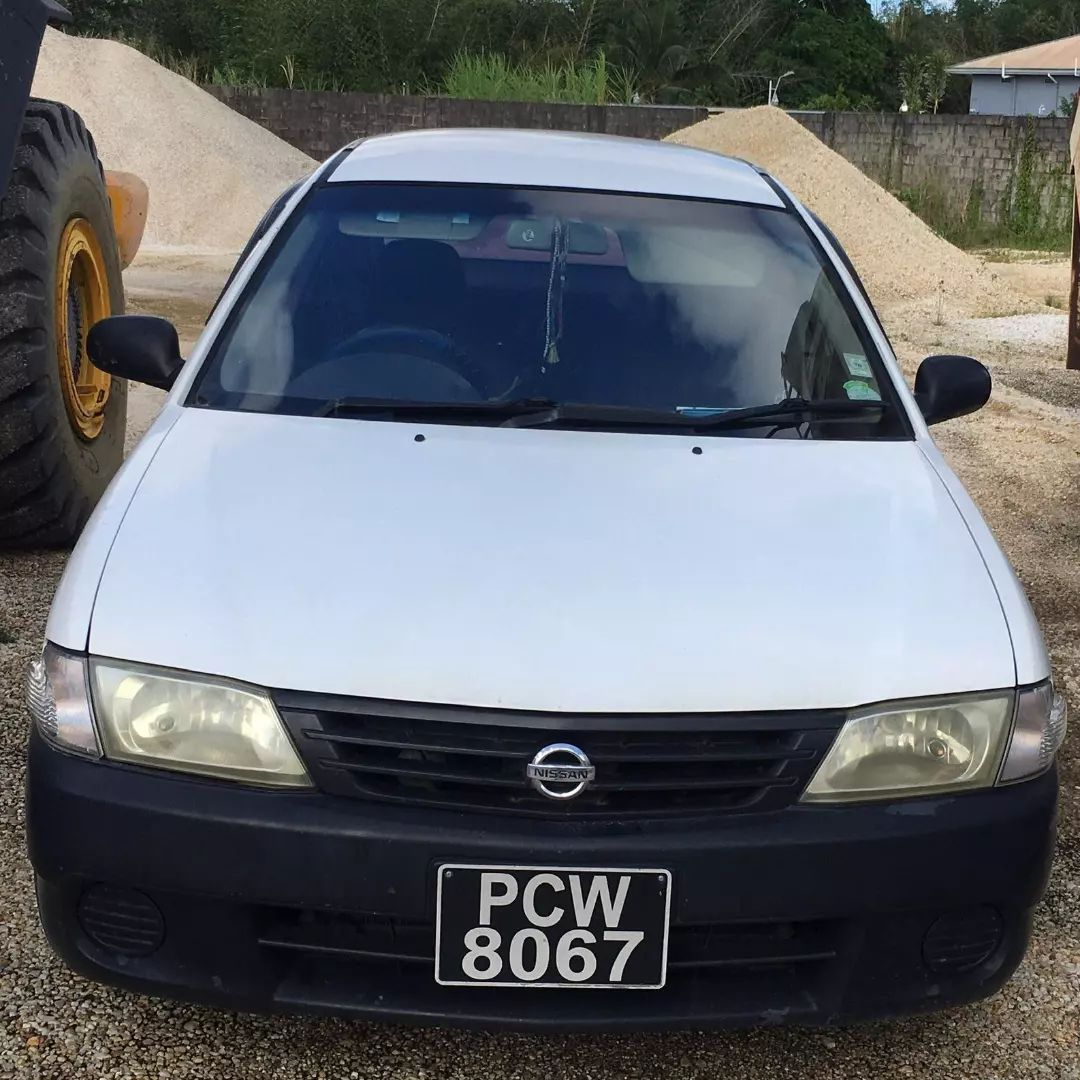License-Plate: (440, 865, 667, 981)
